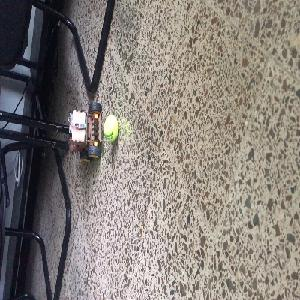Ball: (103, 114, 119, 142)
Robot: (68, 103, 102, 163)
